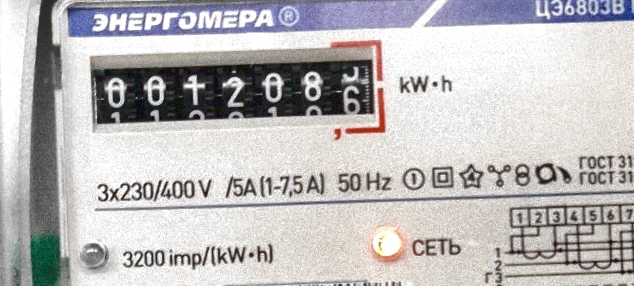0: (260, 67, 287, 103), (143, 69, 168, 107), (105, 71, 127, 109)
1: (184, 69, 203, 107)
2: (221, 72, 249, 108)
6: (339, 79, 363, 115)
8: (299, 66, 324, 103)
screen: (78, 28, 396, 161)
